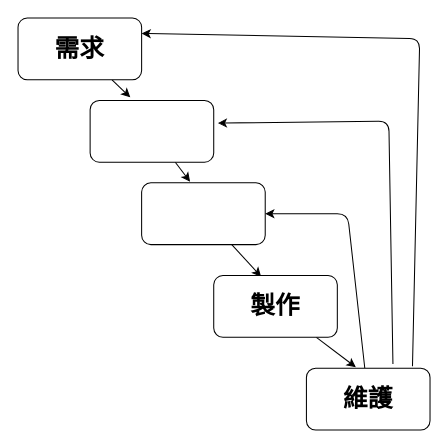
The diagram is 448 pixels wide and 448 high, and some of its shapes have lost their labels. Each missing label, with the centre of its shape:
"分析" goes at point (151, 130).
"設計" goes at point (203, 213).
